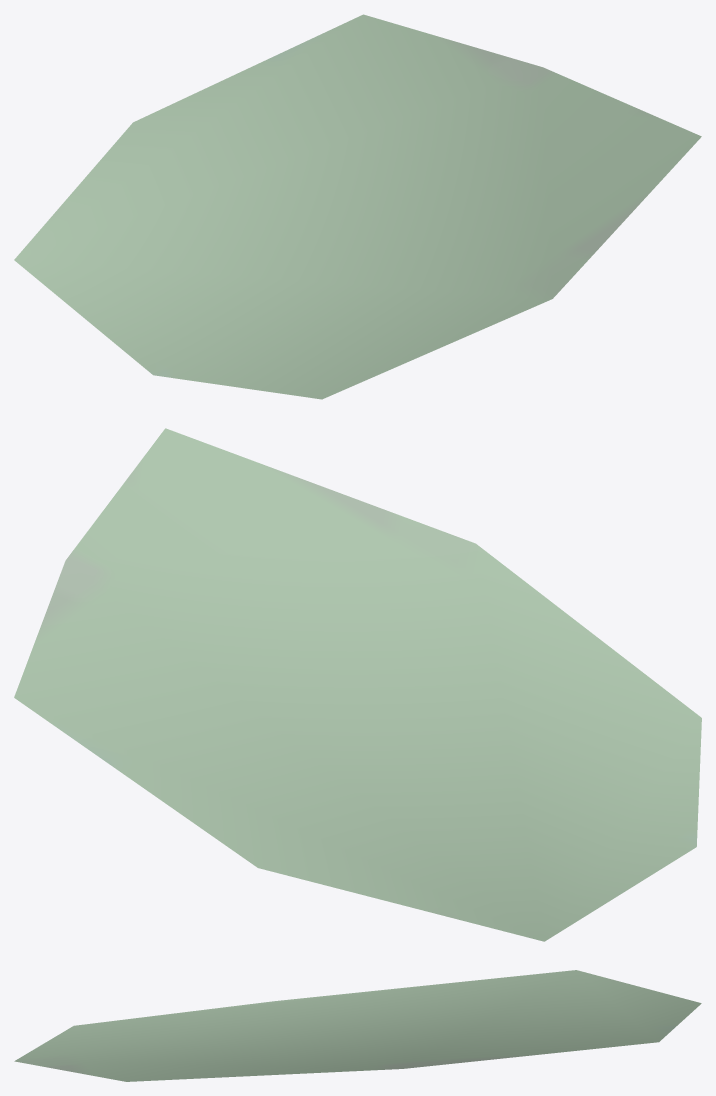
Rendered from TROLLHOLE02_HOLECAP81.fbx.
3 renders of one model, top to bottom at view 1: azimuth 30°, elevation 25°; view 2: azimuth 150°, elevation 25°; view 3: azimuth 270°, elevation 25°, orthographic. The views are drawn at different scales.
Visible parts, largest first — view 1: TROLLHOLE02_HOLECAP81; view 2: TROLLHOLE02_HOLECAP81; view 3: TROLLHOLE02_HOLECAP81.
Part boxes in pixels (<box>): TROLLHOLE02_HOLECAP81: <box>14,14,701,399</box>; TROLLHOLE02_HOLECAP81: <box>14,428,701,941</box>; TROLLHOLE02_HOLECAP81: <box>14,970,701,1081</box>.
Size of the model in its own units: 10845 by 3503 by 11260.
1 material, 1 textured.
